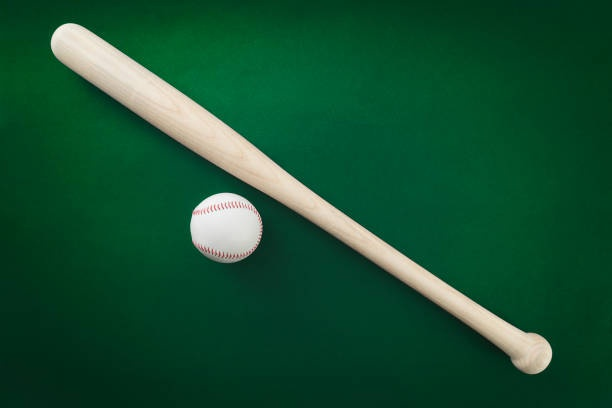bita: (54, 22, 500, 351)
